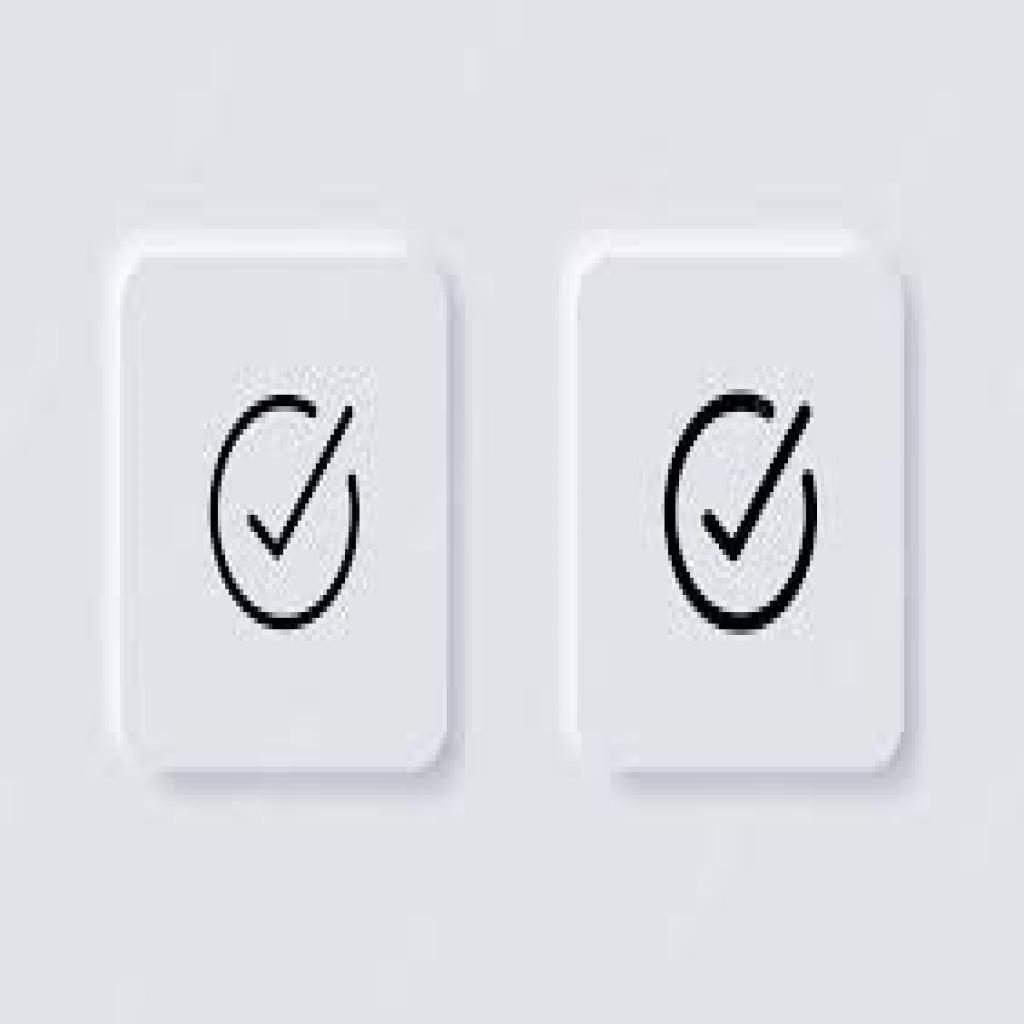checkbox: (570, 254, 908, 773), (119, 254, 447, 773)
